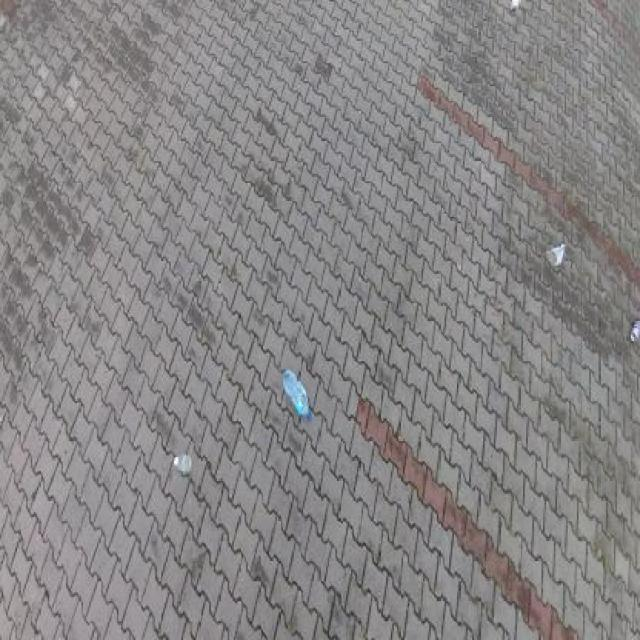Garbage: (283, 369, 312, 418), (543, 243, 567, 270), (173, 454, 192, 474), (630, 318, 639, 341), (511, 1, 519, 12)
